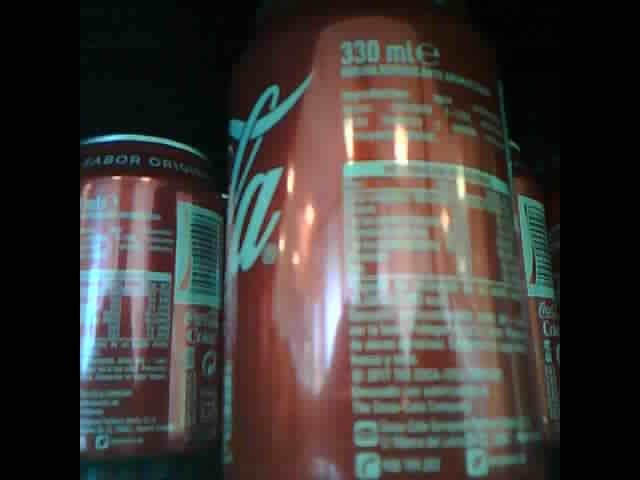coca cola: (222, 5, 545, 477), (84, 129, 226, 463), (504, 133, 561, 449)
